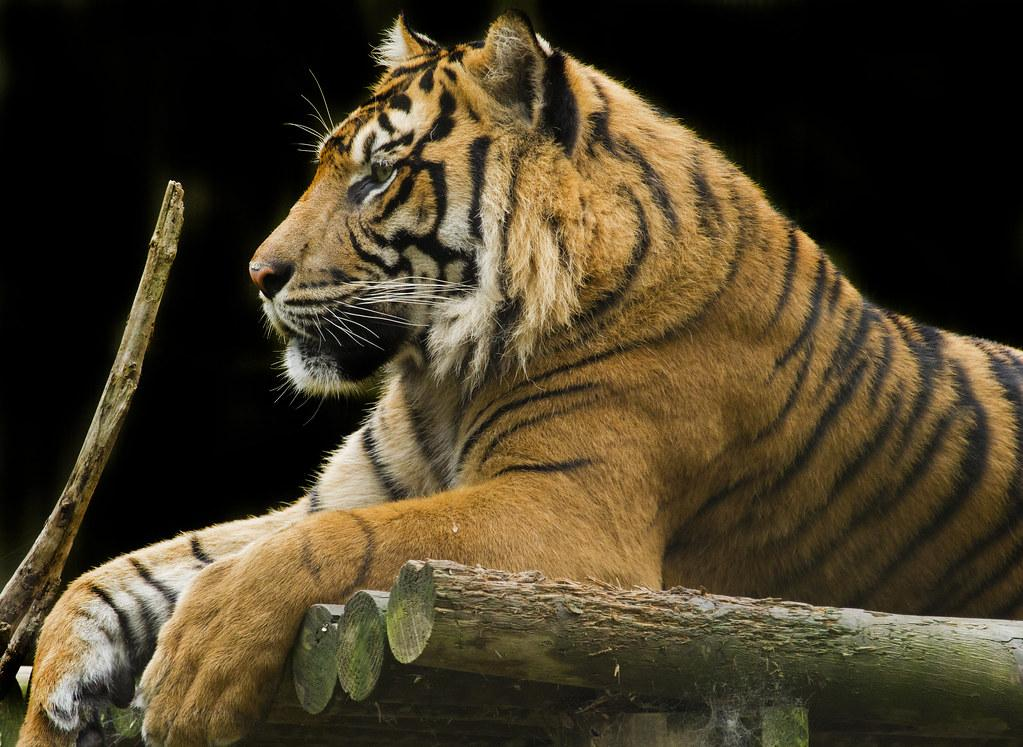tiger: (16, 8, 1022, 745)
